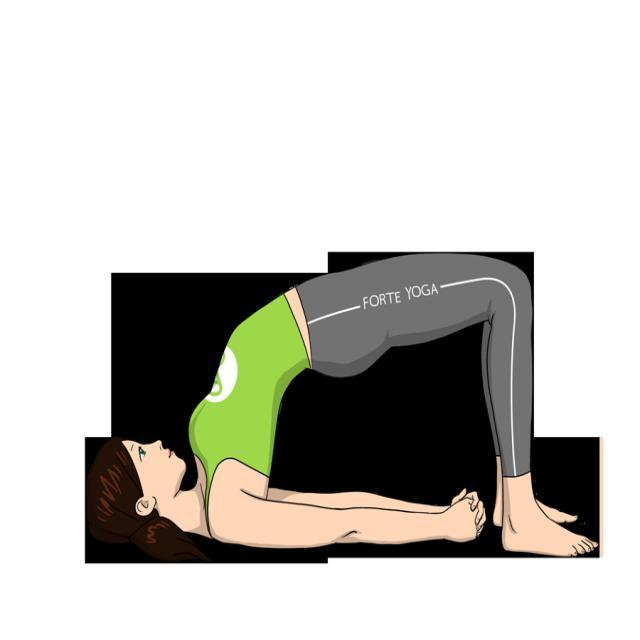yoga-pose bridge: (87, 248, 601, 564)
